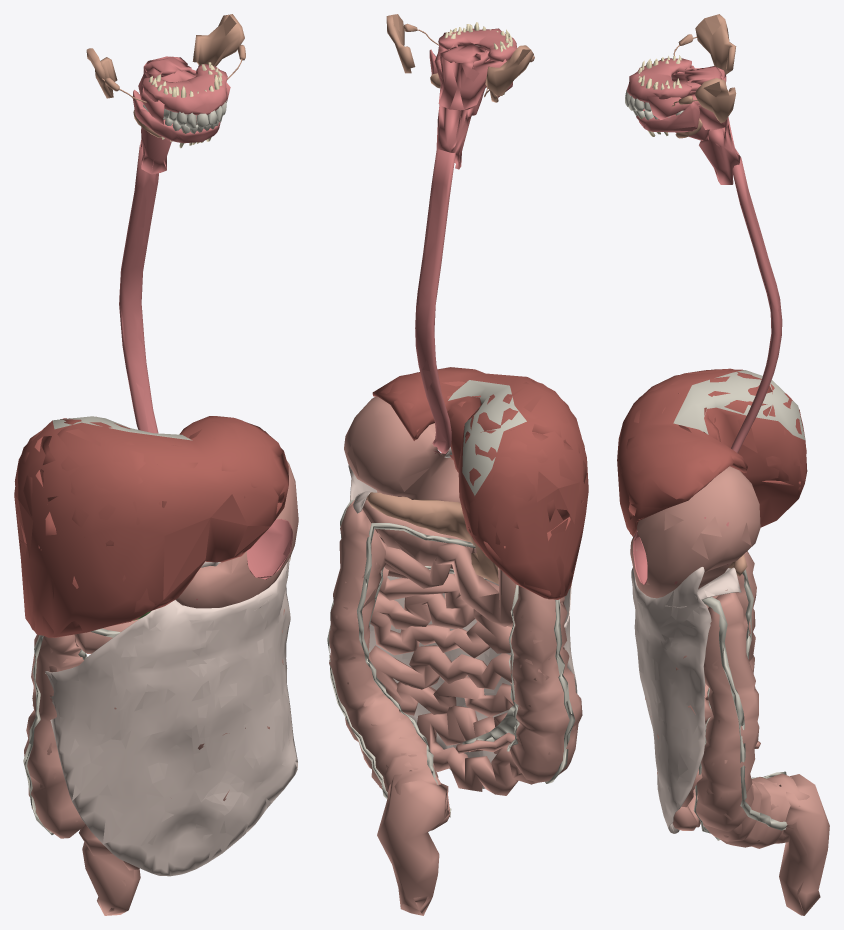
Rendered from adult_male.digestive.LOD3.glb.
3 views of the same model, side by side, from view 1: azimuth 30°, elevation 25°; view 2: azimuth 150°, elevation 25°; view 3: azimuth 270°, elevation 25° (orthographic). The views are drawn at different scales.
Visible parts, largest first — view 1: ADULT.MALE.DIGESTIVE.GREATER_OMENTUM, ADULT.MALE.DIGESTIVE.LIVER, ADULT.MALE.DIGESTIVE.ASCENDING_COLON, ADULT.MALE.DIGESTIVE.OESOPHAGUS, ADULT.MALE.DIGESTIVE.STOMACH, ADULT.MALE.DIGESTIVE.POSTERIOR_MEDIAL_SEGMENT_OF_LIVER_VIII, ADULT.MALE.DIGESTIVE.GINGIVA, ADULT.MALE.DIGESTIVE.SIGMOID_COLON, ADULT.MALE.DIGESTIVE.MUCOSA_OF_STOMACH, ADULT.MALE.DIGESTIVE.PAROTID_GLAND.L, ADULT.MALE.DIGESTIVE.LEFT_POSTERIOR_LATERAL_SEGMENT_OF_LIVER, ADULT.MALE.DIGESTIVE.LARYNGOPHARYNX (+8 smaller); view 2: ADULT.MALE.DIGESTIVE.LIVER, ADULT.MALE.DIGESTIVE.JEJUNUM, ADULT.MALE.DIGESTIVE.DESCENDING_COLON, ADULT.MALE.DIGESTIVE.ASCENDING_COLON, ADULT.MALE.DIGESTIVE.STOMACH, ADULT.MALE.DIGESTIVE.SIGMOID_COLON, ADULT.MALE.DIGESTIVE.OESOPHAGUS, ADULT.MALE.DIGESTIVE.PANCREAS, ADULT.MALE.DIGESTIVE.POSTERIOR_LATERAL_SEGMENT_OF_LIVER_VII, ADULT.MALE.DIGESTIVE.DUODENUM, ADULT.MALE.DIGESTIVE.GREATER_OMENTUM, ADULT.MALE.DIGESTIVE.FREE_TAENIA (+13 smaller); view 3: ADULT.MALE.DIGESTIVE.LIVER, ADULT.MALE.DIGESTIVE.GREATER_OMENTUM, ADULT.MALE.DIGESTIVE.DESCENDING_COLON, ADULT.MALE.DIGESTIVE.STOMACH, ADULT.MALE.DIGESTIVE.SIGMOID_COLON, ADULT.MALE.DIGESTIVE.OESOPHAGUS, ADULT.MALE.DIGESTIVE.GINGIVA, ADULT.MALE.DIGESTIVE.LEFT_POSTERIOR_LATERAL_SEGMENT_OF_LIVER, ADULT.MALE.DIGESTIVE.MESOCOLIC_TAENIA, ADULT.MALE.DIGESTIVE.LARYNGOPHARYNX, ADULT.MALE.DIGESTIVE.PAROTID_GLAND.R, ADULT.MALE.DIGESTIVE.PAROTID_GLAND.L (+9 smaller).
Part boxes in pixels (x1,y1,x2,y2): ADULT.MALE.DIGESTIVE.GREATER_OMENTUM: (45, 559, 297, 876); ADULT.MALE.DIGESTIVE.LIVER: (14, 416, 288, 637); ADULT.MALE.DIGESTIVE.ASCENDING_COLON: (24, 634, 85, 838); ADULT.MALE.DIGESTIVE.OESOPHAGUS: (119, 145, 158, 433); ADULT.MALE.DIGESTIVE.STOMACH: (175, 460, 298, 608); ADULT.MALE.DIGESTIVE.POSTERIOR_MEDIAL_SEGMENT_OF_LIVER_VIII: (40, 416, 160, 546); ADULT.MALE.DIGESTIVE.GINGIVA: (132, 64, 227, 143); ADULT.MALE.DIGESTIVE.SIGMOID_COLON: (82, 842, 140, 915); ADULT.MALE.DIGESTIVE.MUCOSA_OF_STOMACH: (196, 519, 292, 600); ADULT.MALE.DIGESTIVE.PAROTID_GLAND.L: (192, 14, 244, 66); ADULT.MALE.DIGESTIVE.LEFT_POSTERIOR_LATERAL_SEGMENT_OF_LIVER: (180, 416, 288, 502); ADULT.MALE.DIGESTIVE.LARYNGOPHARYNX: (140, 127, 171, 174); ADULT.MALE.DIGESTIVE.LIVER: (372, 367, 588, 599); ADULT.MALE.DIGESTIVE.JEJUNUM: (369, 542, 537, 795); ADULT.MALE.DIGESTIVE.DESCENDING_COLON: (329, 500, 450, 830); ADULT.MALE.DIGESTIVE.ASCENDING_COLON: (509, 586, 582, 782); ADULT.MALE.DIGESTIVE.STOMACH: (344, 396, 460, 502); ADULT.MALE.DIGESTIVE.SIGMOID_COLON: (377, 770, 448, 915); ADULT.MALE.DIGESTIVE.OESOPHAGUS: (415, 149, 455, 453); ADULT.MALE.DIGESTIVE.PANCREAS: (366, 492, 498, 584); ADULT.MALE.DIGESTIVE.POSTERIOR_LATERAL_SEGMENT_OF_LIVER_VII: (461, 430, 586, 544); ADULT.MALE.DIGESTIVE.DUODENUM: (435, 543, 516, 626); ADULT.MALE.DIGESTIVE.GREATER_OMENTUM: (348, 465, 577, 788); ADULT.MALE.DIGESTIVE.FREE_TAENIA: (357, 523, 519, 785); ADULT.MALE.DIGESTIVE.LIVER: (617, 369, 807, 536); ADULT.MALE.DIGESTIVE.GREATER_OMENTUM: (631, 567, 711, 833); ADULT.MALE.DIGESTIVE.DESCENDING_COLON: (696, 589, 809, 848); ADULT.MALE.DIGESTIVE.STOMACH: (630, 466, 760, 598); ADULT.MALE.DIGESTIVE.SIGMOID_COLON: (779, 774, 829, 915); ADULT.MALE.DIGESTIVE.OESOPHAGUS: (731, 157, 782, 453); ADULT.MALE.DIGESTIVE.GINGIVA: (627, 58, 699, 132); ADULT.MALE.DIGESTIVE.LEFT_POSTERIOR_LATERAL_SEGMENT_OF_LIVER: (621, 425, 746, 519); ADULT.MALE.DIGESTIVE.MESOCOLIC_TAENIA: (702, 597, 787, 830); ADULT.MALE.DIGESTIVE.LARYNGOPHARYNX: (699, 122, 740, 184); ADULT.MALE.DIGESTIVE.PAROTID_GLAND.R: (695, 14, 736, 74); ADULT.MALE.DIGESTIVE.PAROTID_GLAND.L: (695, 78, 736, 123).
Bounding box in the file's own units: 0.2304 × 0.7717 × 0.1716.
